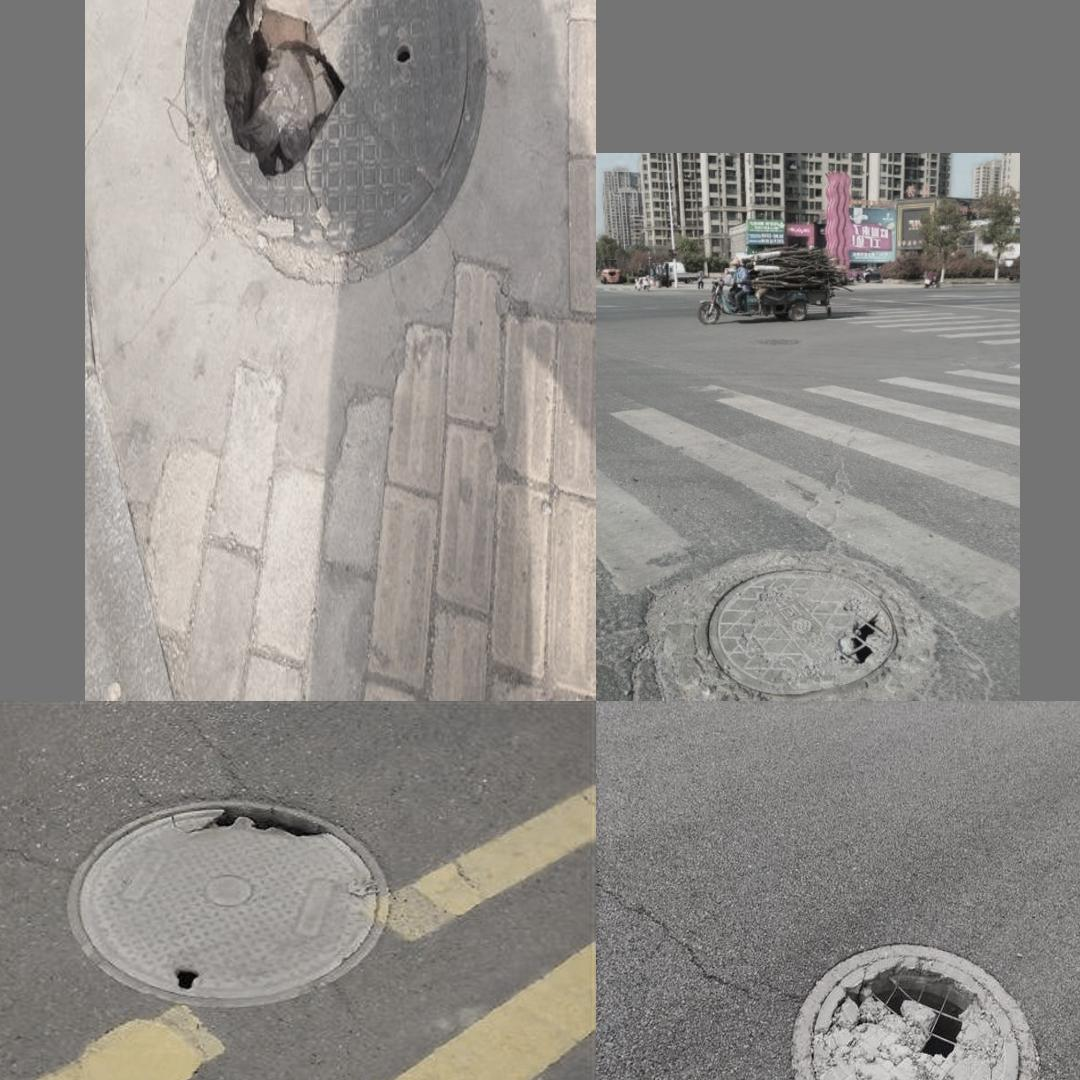broke: (166, 0, 500, 310), (56, 787, 406, 1015), (787, 938, 1044, 1080), (694, 562, 904, 701)
